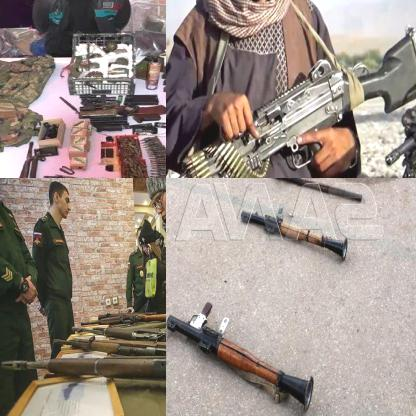rifle: (166, 29, 415, 177), (166, 299, 318, 413), (0, 347, 165, 397), (237, 204, 349, 265), (51, 333, 165, 367), (368, 102, 415, 177), (90, 320, 165, 345)
